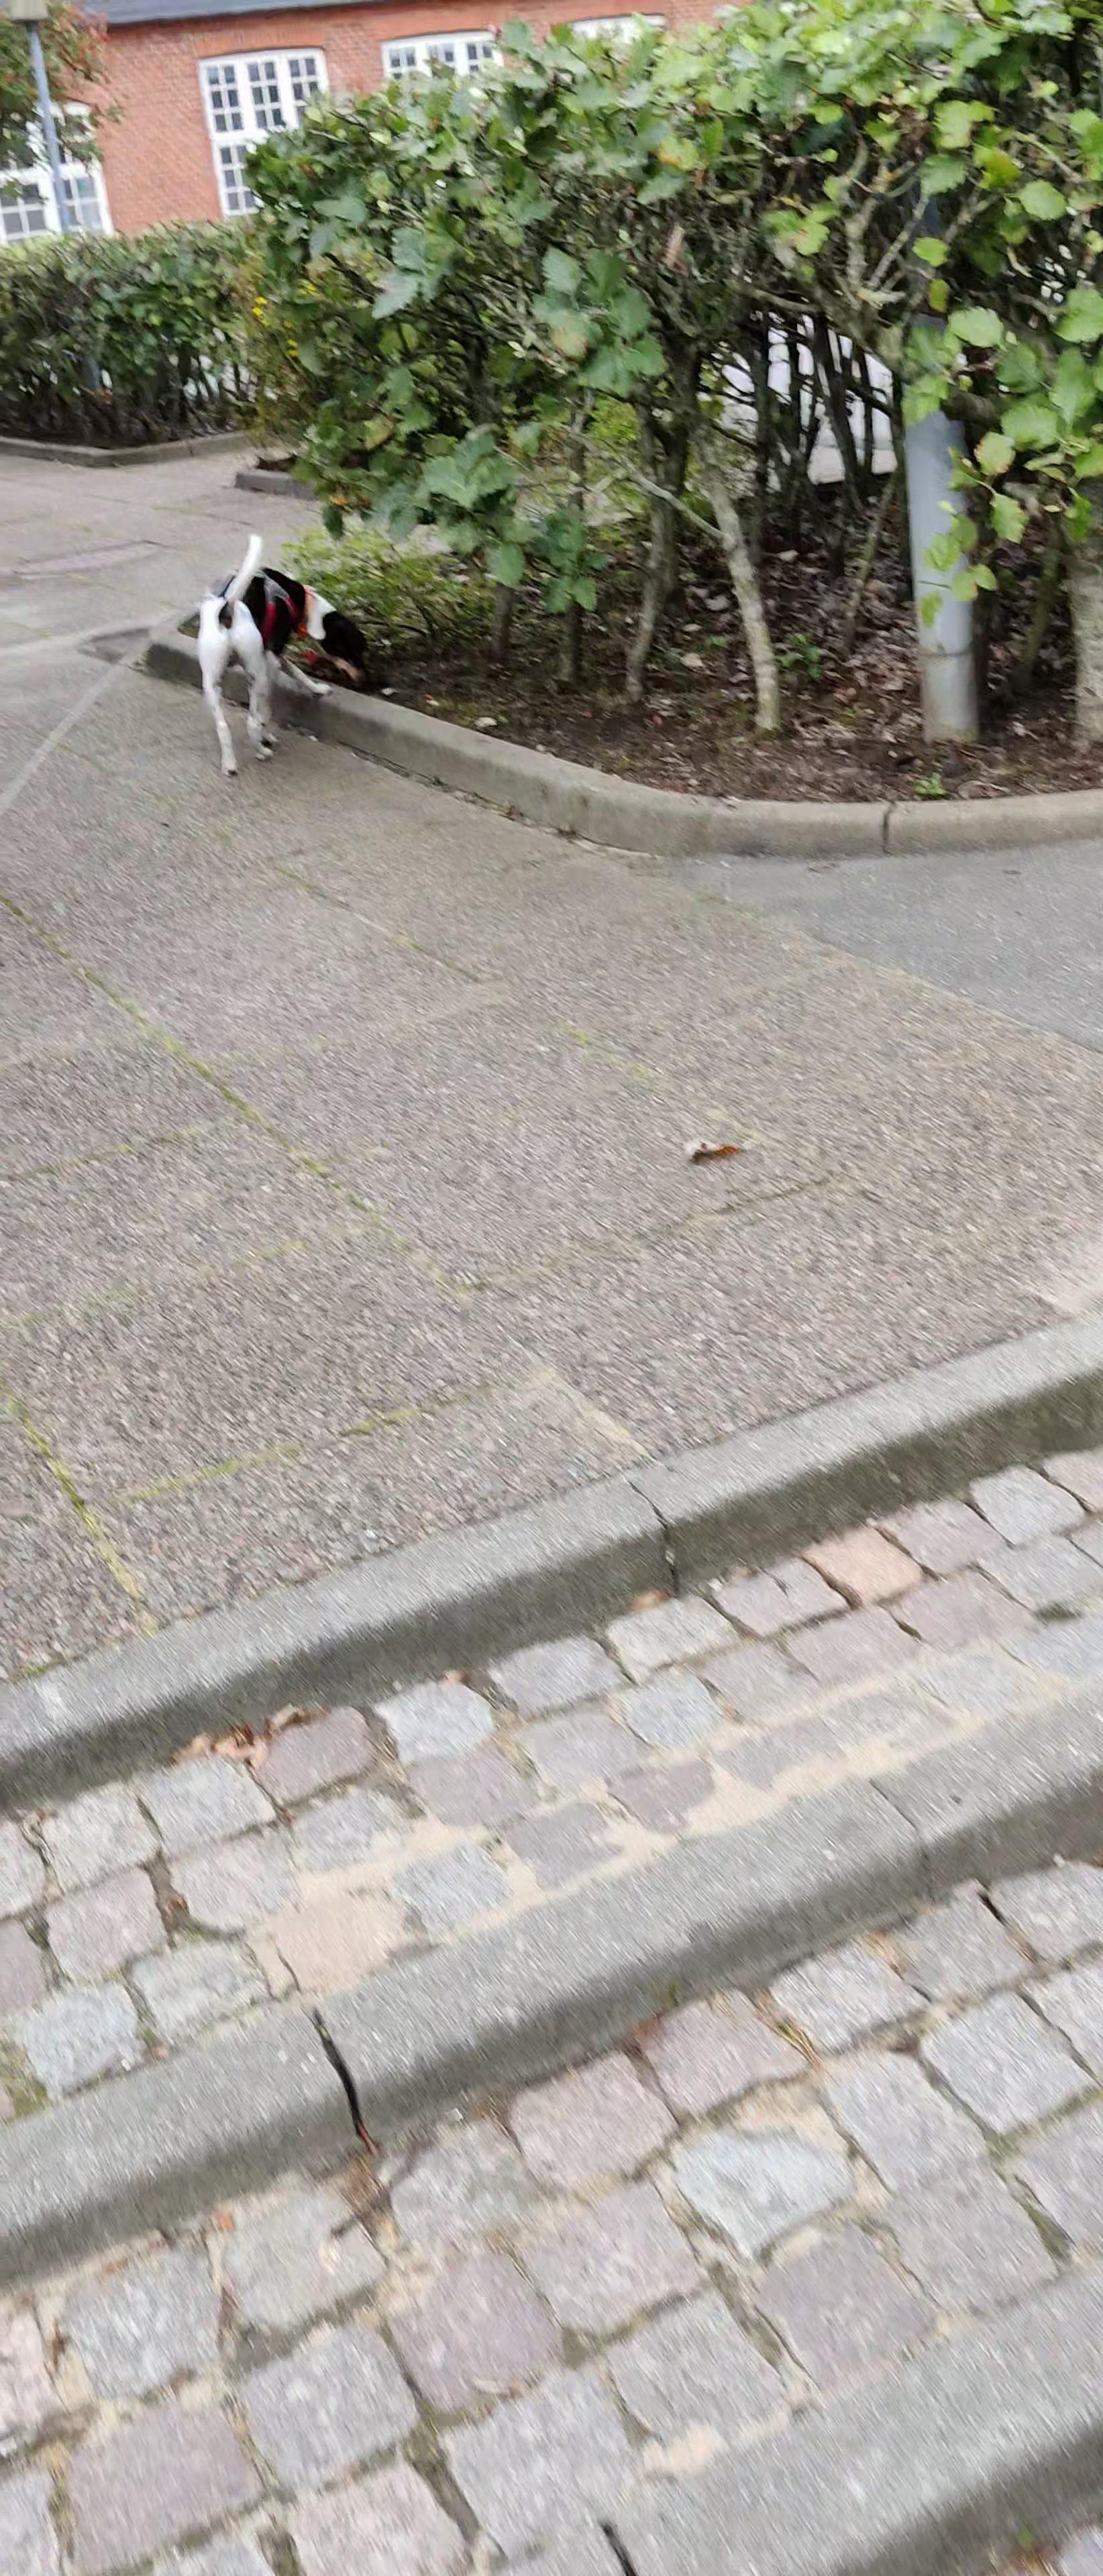Dog: (189, 531, 378, 779)
